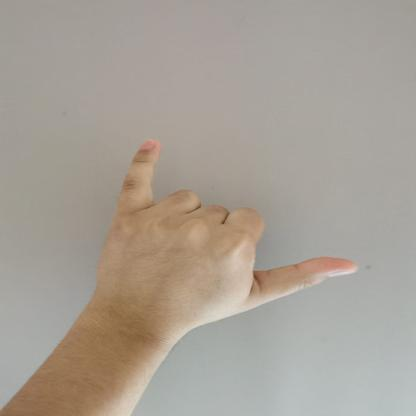Y: (94, 131, 364, 333)
